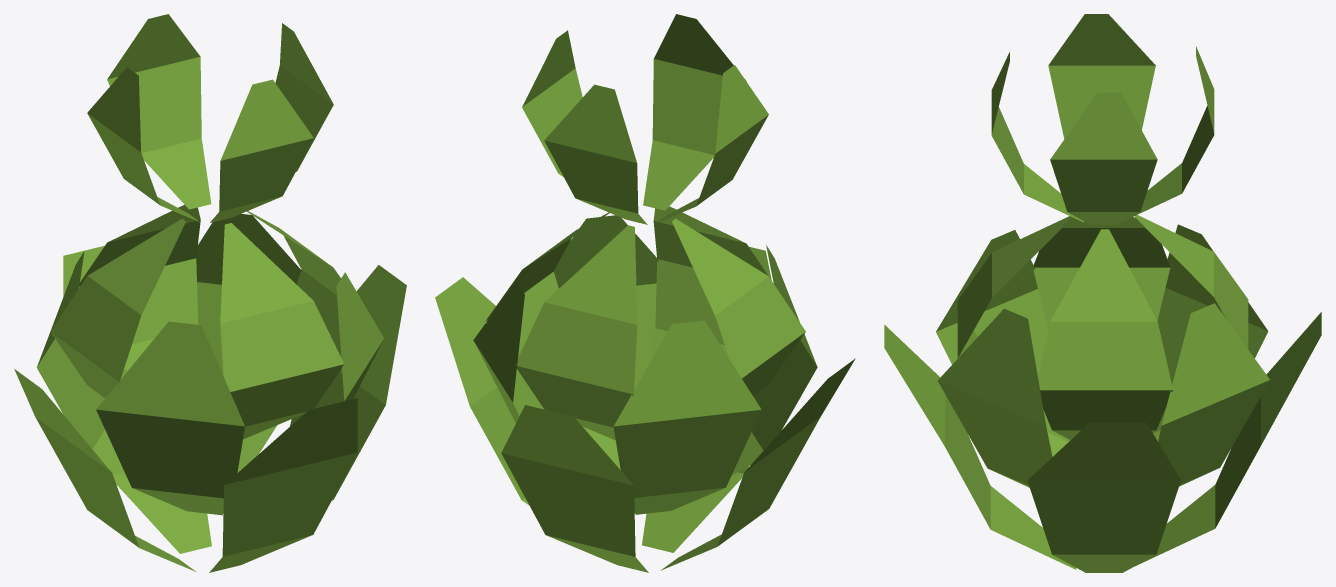
The model's file is result.gltf.
3 renders of one model, left to right at view 1: azimuth 30°, elevation 25°; view 2: azimuth 150°, elevation 25°; view 3: azimuth 270°, elevation 25°, orthographic.
Visible parts, largest first — view 1: Plant_7; view 2: Plant_7; view 3: Plant_7.
Part boxes in pixels (x1,y1,x2,y2): Plant_7: (14,14,406,572); Plant_7: (435,14,855,572); Plant_7: (884,14,1321,572).
Size of the model in its own units: 120 by 154 by 120.
